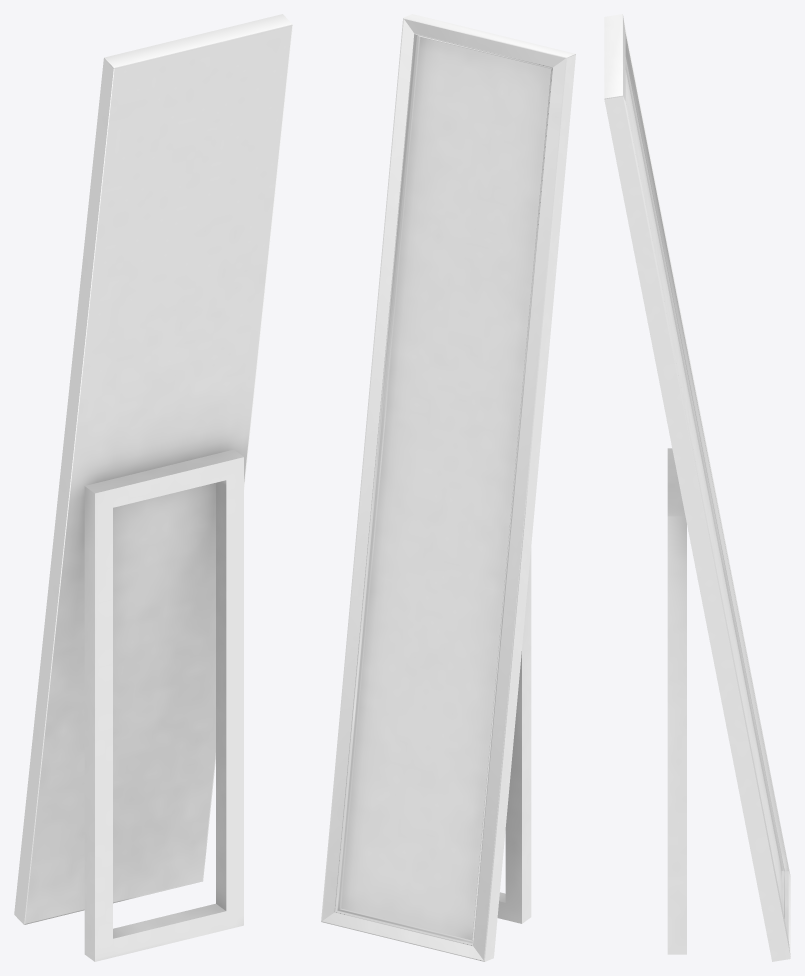
Rendered from MirrorShapes.glb.
3 renders of one model, left to right at view 1: azimuth 30°, elevation 25°; view 2: azimuth 150°, elevation 25°; view 3: azimuth 270°, elevation 25°, orthographic. The views are drawn at different scales.
Visible parts, largest first — view 1: MirrorShapes; view 2: MirrorShapes; view 3: MirrorShapes.
Part boxes in pixels (left/top/right/bottom): MirrorShapes: left=14, top=14, right=292, bottom=961; MirrorShapes: left=321, top=14, right=575, bottom=961; MirrorShapes: left=604, top=14, right=790, bottom=961.
Size of the model in its own units: 0.3 by 1.48 by 0.2893.
1 material, 1 textured.
